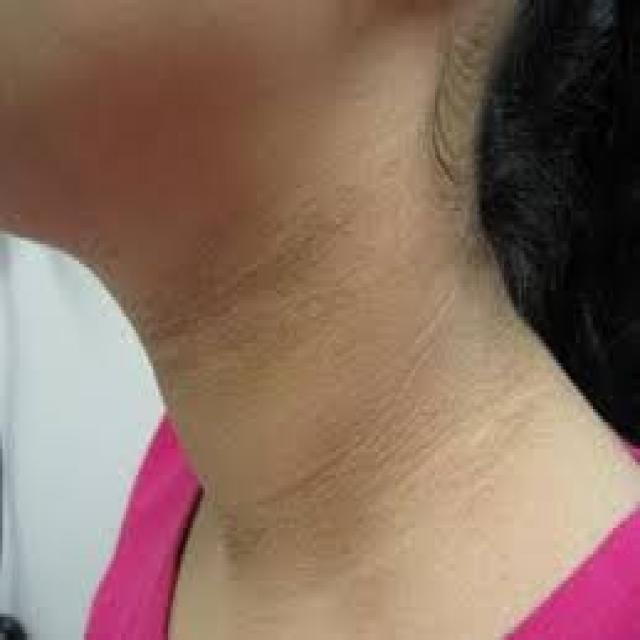Acanthosis Nigricans: (112, 145, 608, 639)
